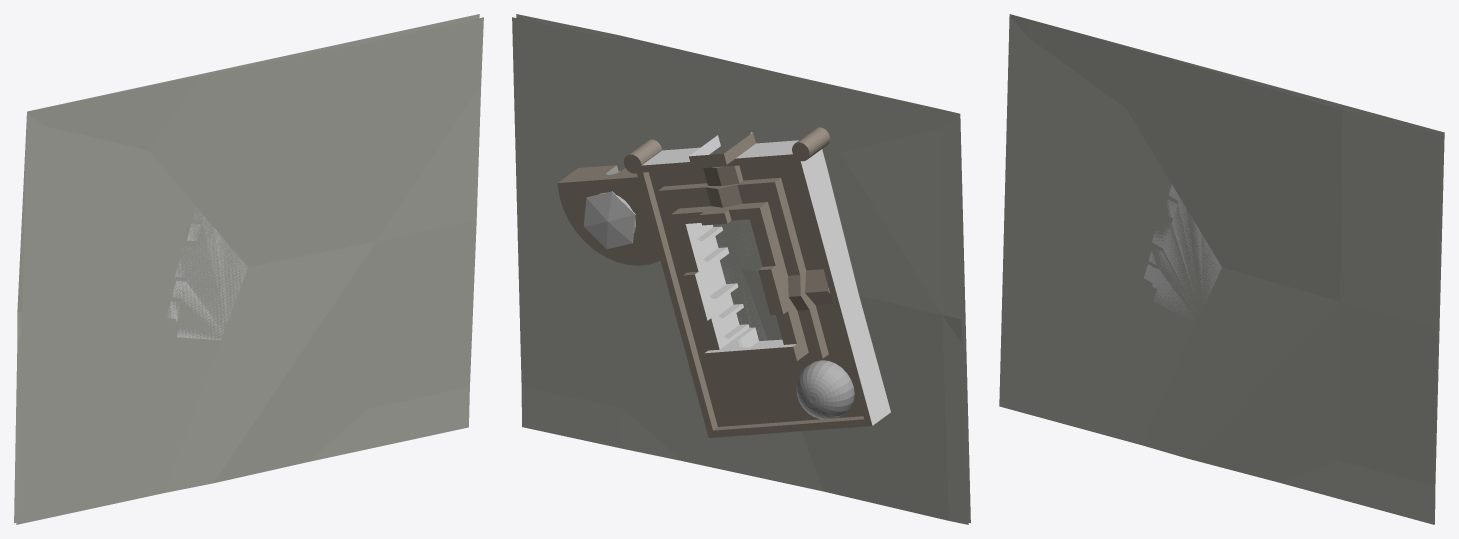
The model's file is sahabiye.fbx.
The picture shows the model from 3 angles, left to right: view 1: azimuth 30°, elevation 25°; view 2: azimuth 150°, elevation 25°; view 3: azimuth 330°, elevation 25°; orthographic projection. The views are drawn at different scales.
Parts seen in each view (by area): view 1: imagetostl_mesh20, imagetostl_mesh15, imagetostl_mesh6, imagetostl_mesh14, imagetostl_mesh4, imagetostl_mesh17, imagetostl_mesh9, imagetostl_mesh8, imagetostl_mesh5, imagetostl_mesh13, imagetostl_mesh18, imagetostl_mesh16 (+4 smaller); view 2: imagetostl_mesh20, imagetostl_mesh5, imagetostl_mesh661, imagetostl_mesh13, imagetostl_mesh665, imagetostl_mesh660, imagetostl_mesh4, imagetostl_mesh14, imagetostl_mesh543, imagetostl_mesh15, imagetostl_mesh7, imagetostl_mesh3 (+23 smaller); view 3: imagetostl_mesh20, imagetostl_mesh15, imagetostl_mesh6, imagetostl_mesh14, imagetostl_mesh4, imagetostl_mesh17, imagetostl_mesh9, imagetostl_mesh8, imagetostl_mesh5, imagetostl_mesh13, imagetostl_mesh84, imagetostl_mesh18 (+2 smaller).
Boxes of the visible parts, x1,y1,x2,y2 form: imagetostl_mesh20: (16,14,479,524); imagetostl_mesh15: (185,40,383,266); imagetostl_mesh6: (214,242,375,482); imagetostl_mesh14: (148,40,382,193); imagetostl_mesh4: (165,242,375,492); imagetostl_mesh17: (375,40,480,241); imagetostl_mesh9: (369,242,470,408); imagetostl_mesh8: (376,220,476,363); imagetostl_mesh5: (207,242,374,377); imagetostl_mesh13: (46,76,199,150); imagetostl_mesh18: (376,85,481,241); imagetostl_mesh16: (384,17,483,84); imagetostl_mesh20: (512,17,970,523); imagetostl_mesh5: (741,268,948,520); imagetostl_mesh661: (649,161,863,426); imagetostl_mesh13: (792,76,942,314); imagetostl_mesh665: (623,142,872,437); imagetostl_mesh660: (800,149,890,425); imagetostl_mesh4: (801,428,948,520); imagetostl_mesh14: (618,35,941,314); imagetostl_mesh543: (557,177,660,265); imagetostl_mesh15: (617,35,941,314); imagetostl_mesh7: (521,386,621,448); imagetostl_mesh3: (942,315,962,519); imagetostl_mesh20: (999,15,1444,524); imagetostl_mesh15: (1162,110,1342,301); imagetostl_mesh6: (1187,302,1340,482); imagetostl_mesh14: (1126,60,1341,167); imagetostl_mesh4: (1142,302,1339,458); imagetostl_mesh17: (1340,110,1439,300); imagetostl_mesh9: (1338,302,1435,476); imagetostl_mesh8: (1340,302,1437,464); imagetostl_mesh5: (1183,267,1339,354); imagetostl_mesh13: (1028,19,1172,107); imagetostl_mesh84: (1143,185,1221,319); imagetostl_mesh18: (1340,200,1439,301).
Bounding box in the file's own units: 327950 × 286614 × 49140.
